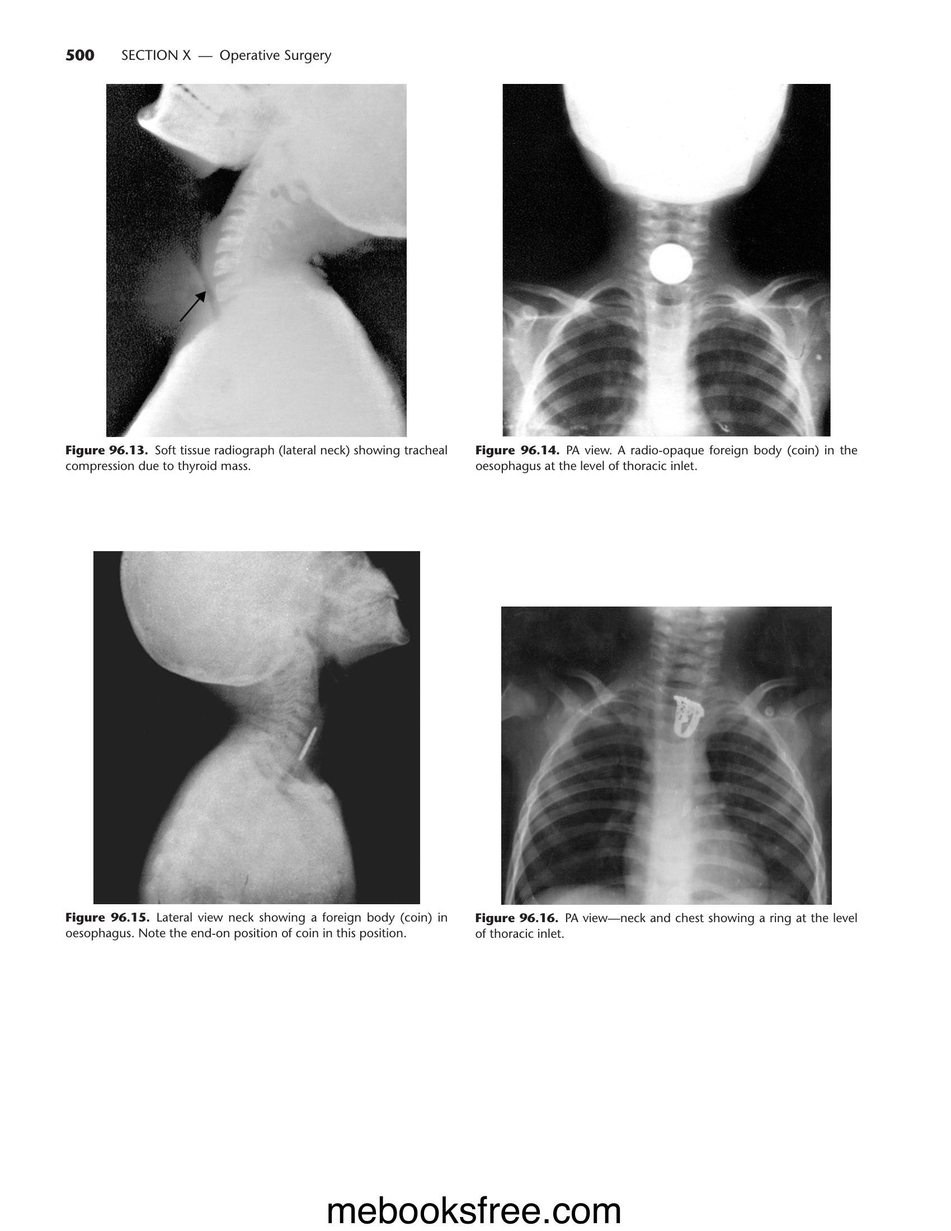caption: (64, 444, 447, 475), (474, 444, 858, 474), (65, 911, 449, 941), (473, 911, 859, 939)
header: (121, 47, 332, 65)
image: (502, 83, 832, 437), (93, 550, 421, 905), (105, 83, 408, 436), (500, 605, 833, 906)
